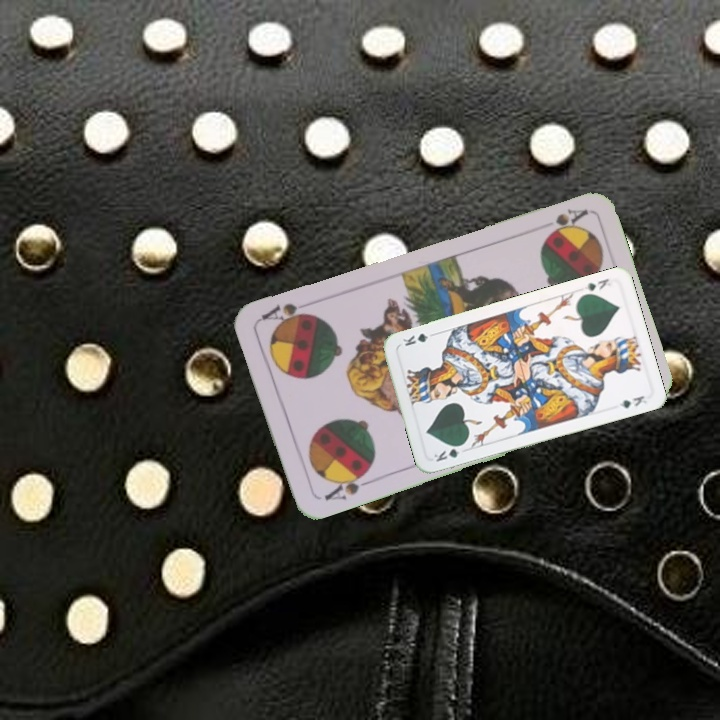GK: (430, 440, 469, 464), (580, 274, 614, 294)
SA: (320, 466, 375, 503), (543, 204, 590, 237)
